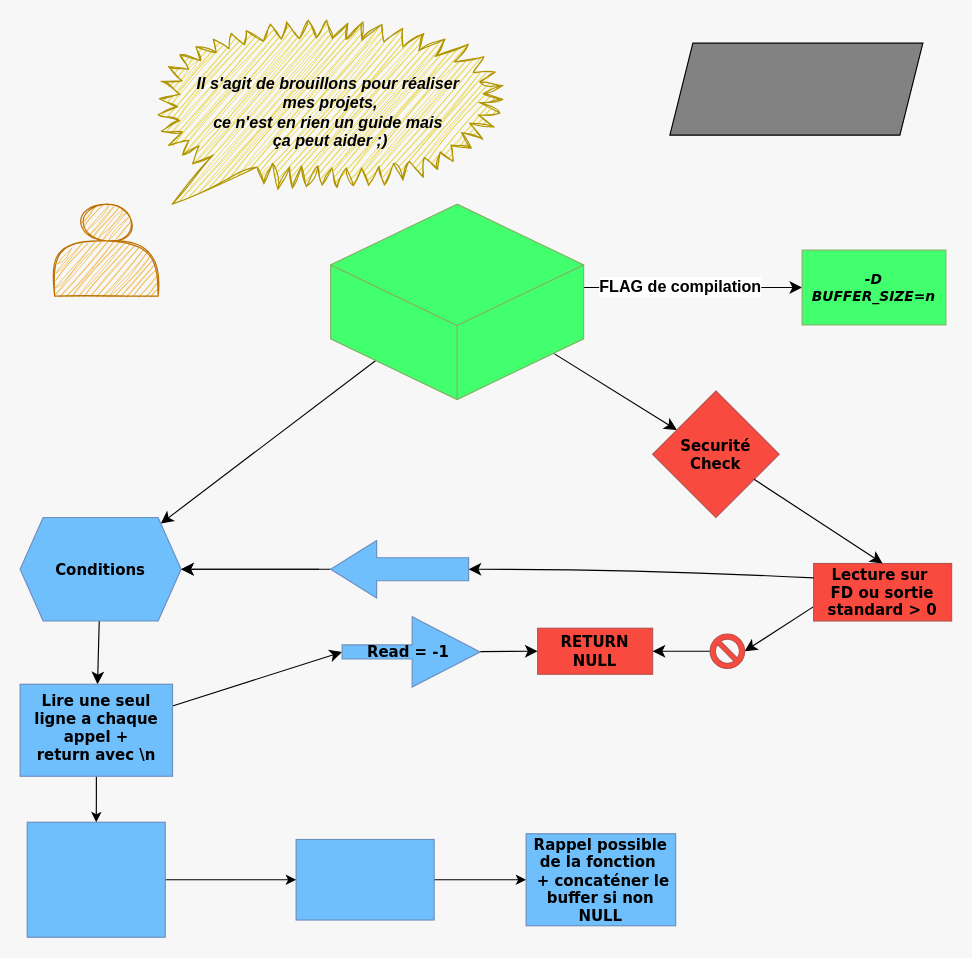
This 972x958 diagram has some shape labels left out. Here are the shapes that lost their labels. From the top down, the box of each, then its label:
(669, 42, 923, 135): Get Next Line
(329, 203, 584, 400): Notions : Variable static Read
(329, 539, 469, 598): Sortie OK
(26, 821, 165, 937): Garder le depassement du read dans un buffer si charactere apres le \n
(295, 838, 434, 920): Return la ligne read
